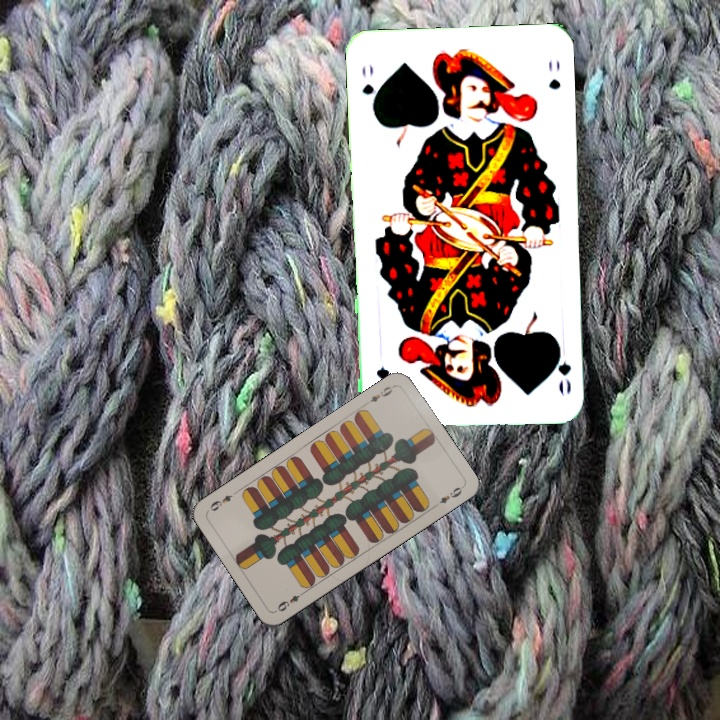E9: (361, 381, 398, 408), (272, 587, 308, 614)
GO: (550, 338, 574, 397), (358, 60, 381, 114)
